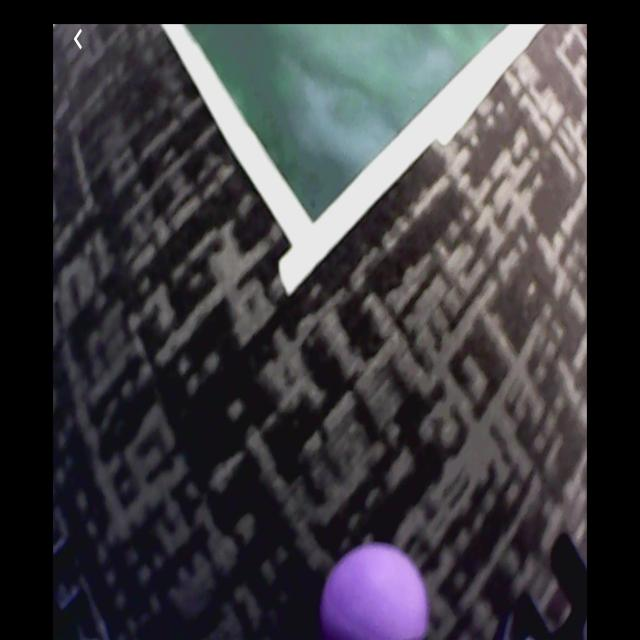ball: (321, 544, 434, 640)
